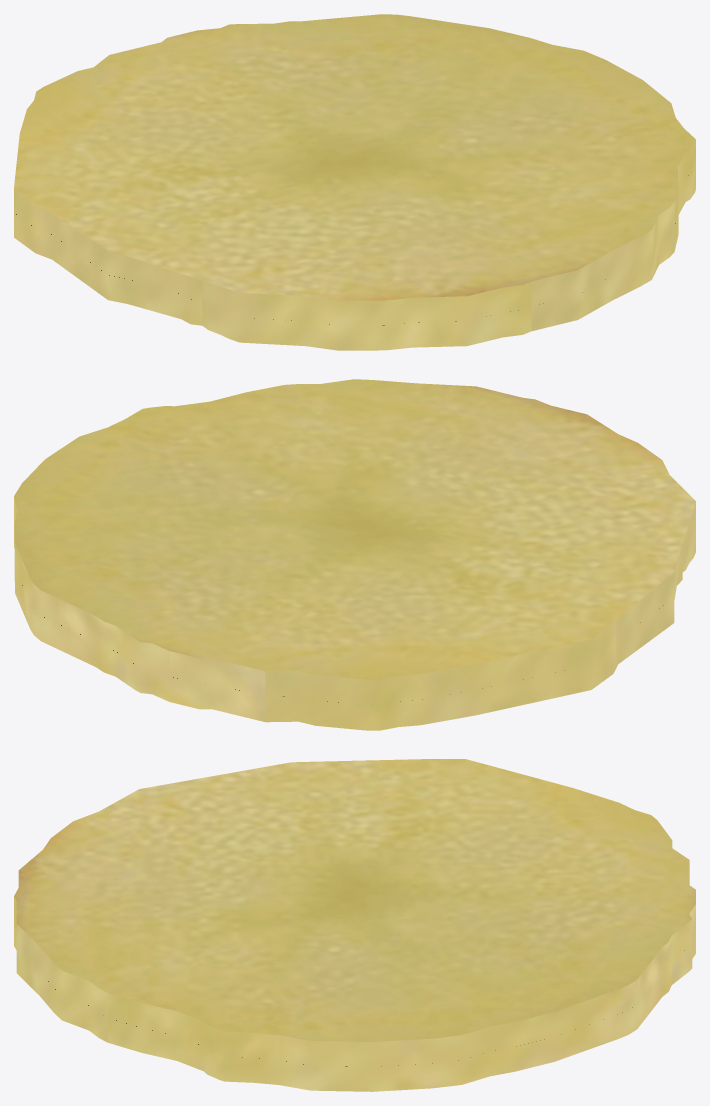
File: Potato.fbx
3 renders of one model, top to bottom at view 1: azimuth 30°, elevation 25°; view 2: azimuth 150°, elevation 25°; view 3: azimuth 270°, elevation 25°, orthographic. The views are drawn at different scales.
Visible parts, largest first — view 1: Potato; view 2: Potato; view 3: Potato.
Boxes of the visible parts, bbox=[...] form: Potato: bbox=[14, 14, 695, 350]; Potato: bbox=[14, 379, 695, 730]; Potato: bbox=[14, 759, 695, 1091].
Bounding box in the file's own units: 1678 × 137 × 1709.
